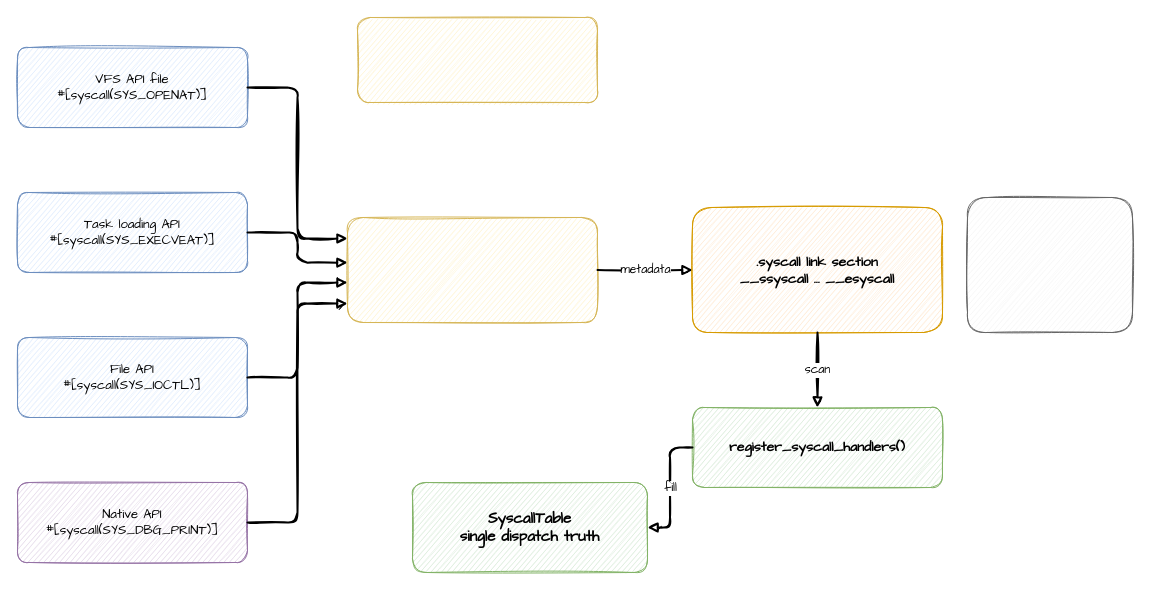
Image size: 1150x590. Some labels were removed from this diagram. Here are the shapes that lost their labels. From the top down, the box of each, then its label:
(356, 16, 598, 102): semantics stay near owners entry stays centralized
(346, 216, 598, 322): macro emits wrapper + metadata
(966, 196, 1132, 332): checks at boot alignment entry size sysno range duplicate number
